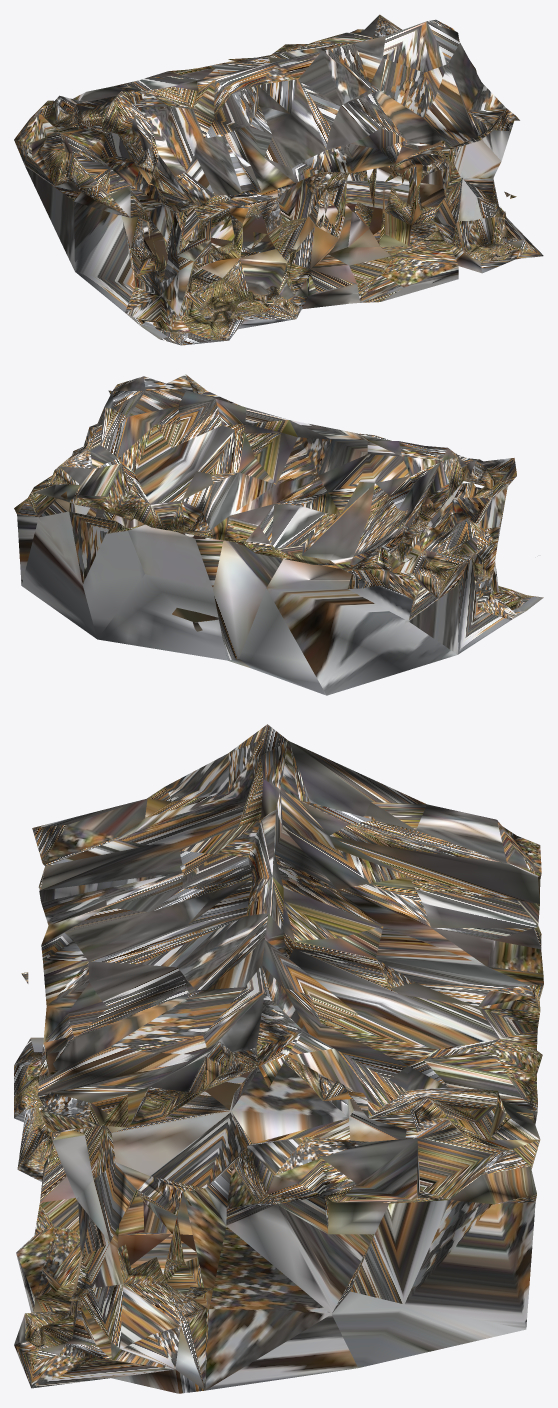
File: lib_courtyard.lod2.glb
3 views of the same model, one above another, from view 1: azimuth 30°, elevation 25°; view 2: azimuth 150°, elevation 25°; view 3: azimuth 270°, elevation 25° (orthographic). The views are drawn at different scales.
Size of the model in its own units: 1.87 by 0.9242 by 1.22.
1 material, 1 textured.
